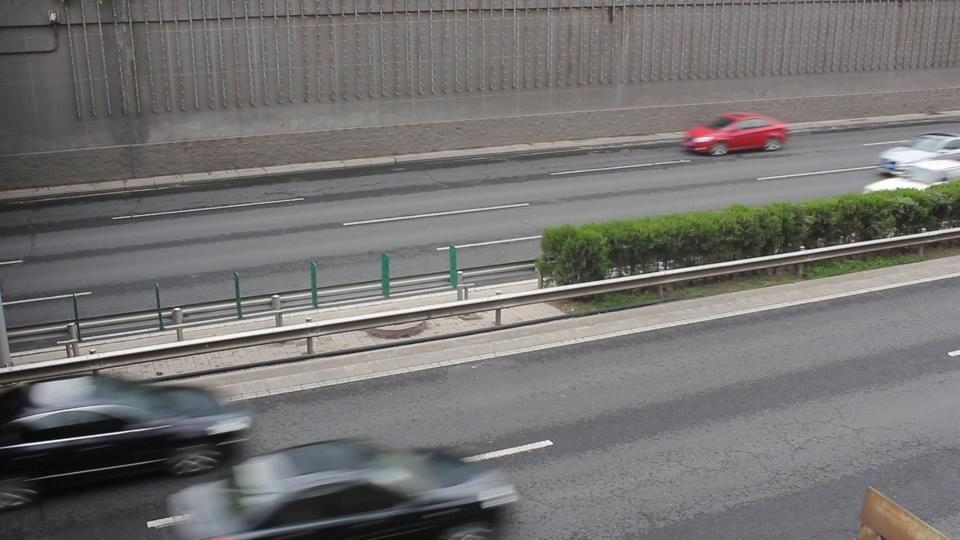car: (158, 438, 521, 539), (1, 373, 256, 493), (678, 111, 791, 157), (873, 131, 960, 181)
